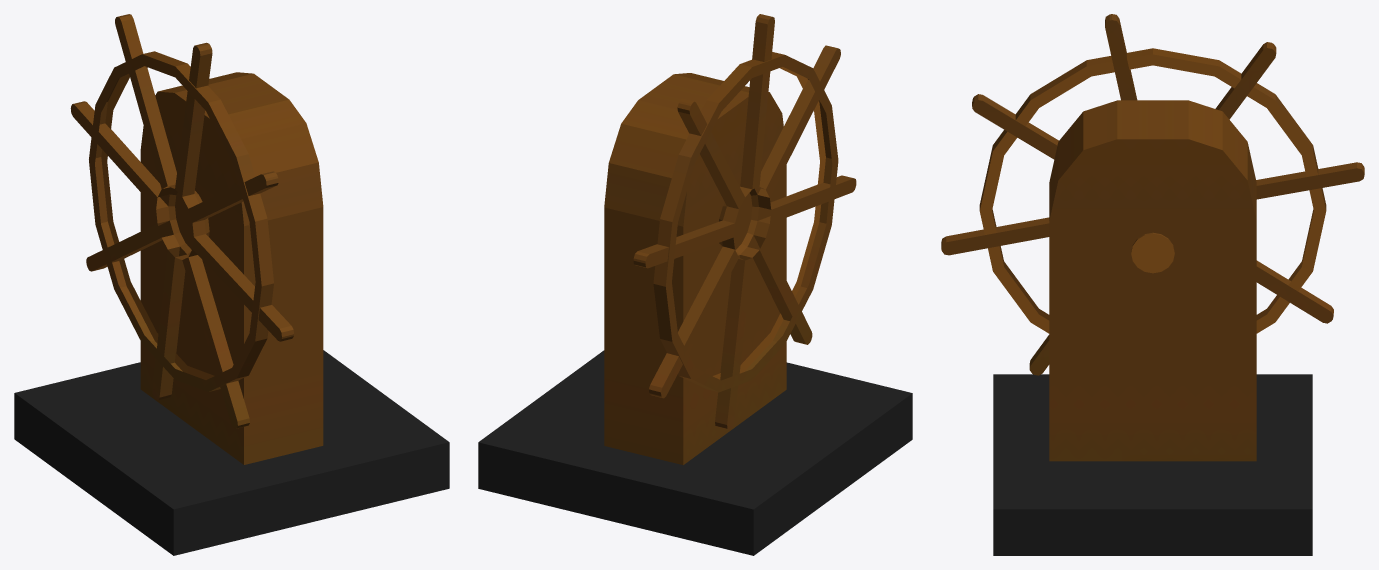
File: Leme.glb
3 views of the same model, side by side, from view 1: azimuth 30°, elevation 25°; view 2: azimuth 150°, elevation 25°; view 3: azimuth 270°, elevation 25° (orthographic).
Visible parts, largest first — view 1: Leme; view 2: Leme; view 3: Leme.
Part boxes in pixels (x1,y1,x2,y2): Leme: (14,14,449,555); Leme: (478,14,912,555); Leme: (941,14,1364,555).
Size of the model in its own units: 1.98 by 3.07 by 2.63.
1 material, 1 textured.
